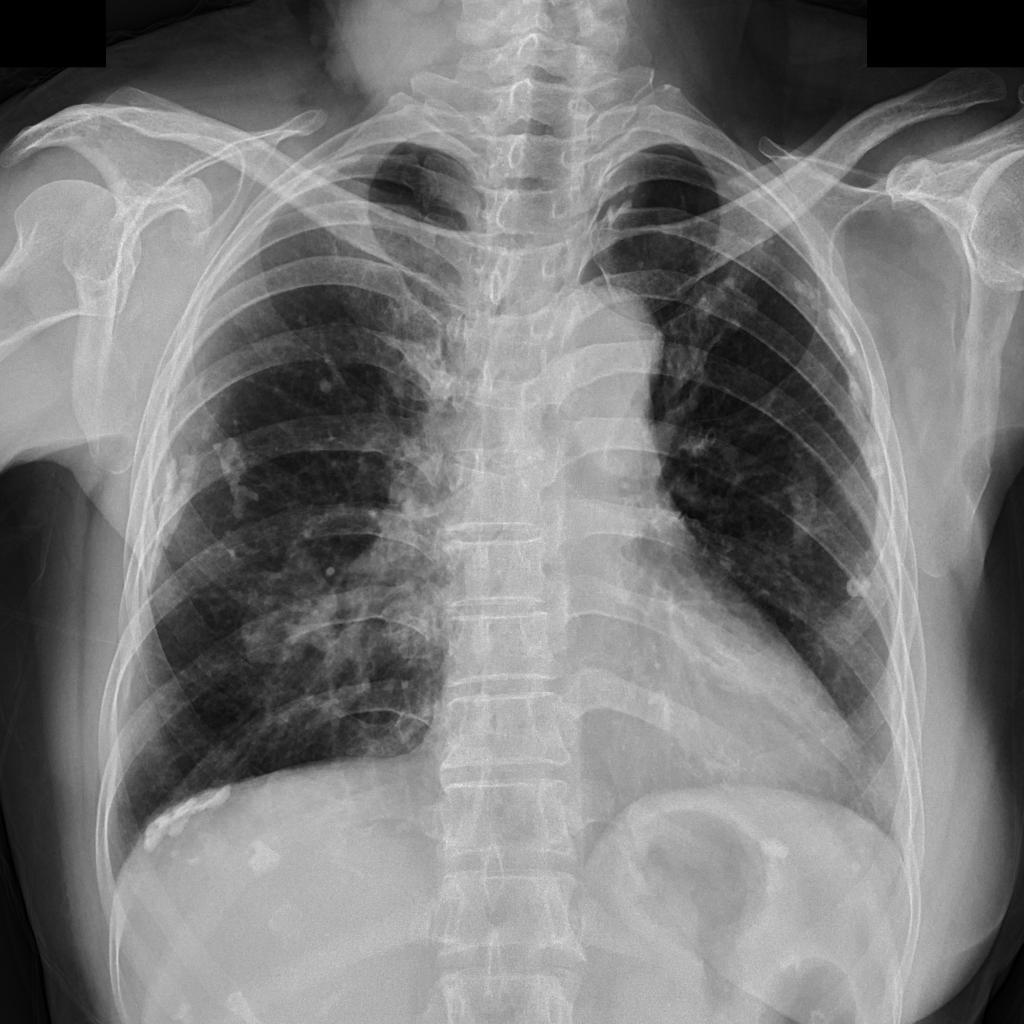Nodule: (235, 615, 306, 662)
